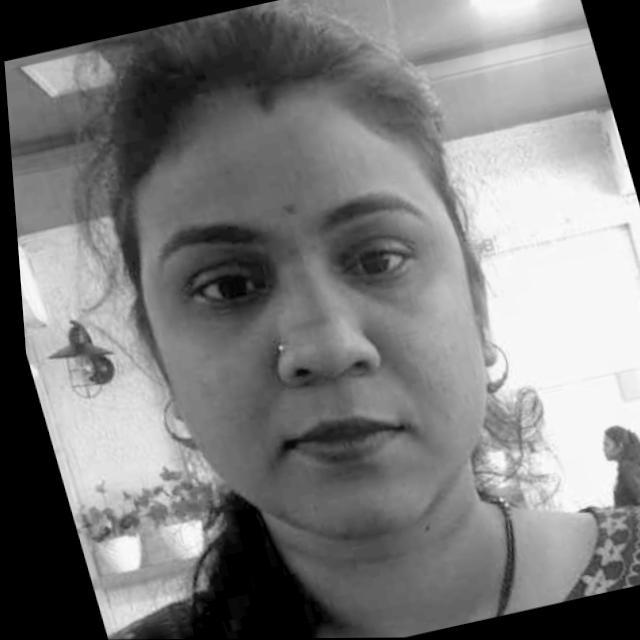Puffy Eyes - v3 Dark Circle: (337, 264, 424, 309), (187, 288, 274, 325)
